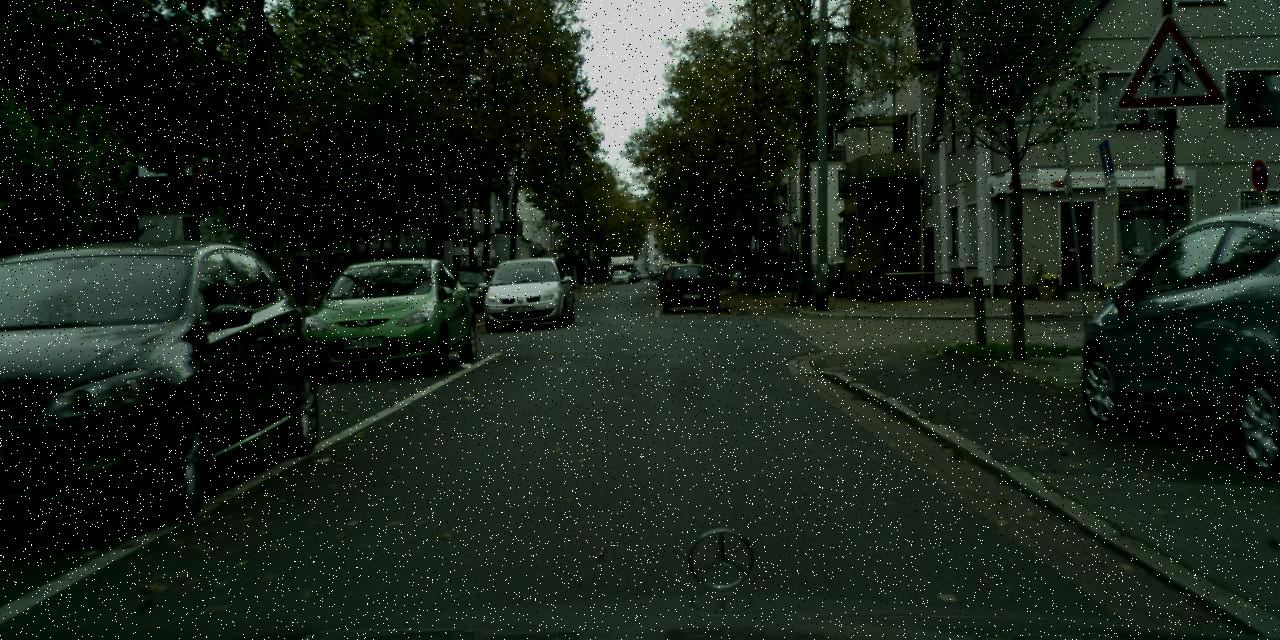ped: (774, 256, 789, 293), (583, 266, 591, 285)
